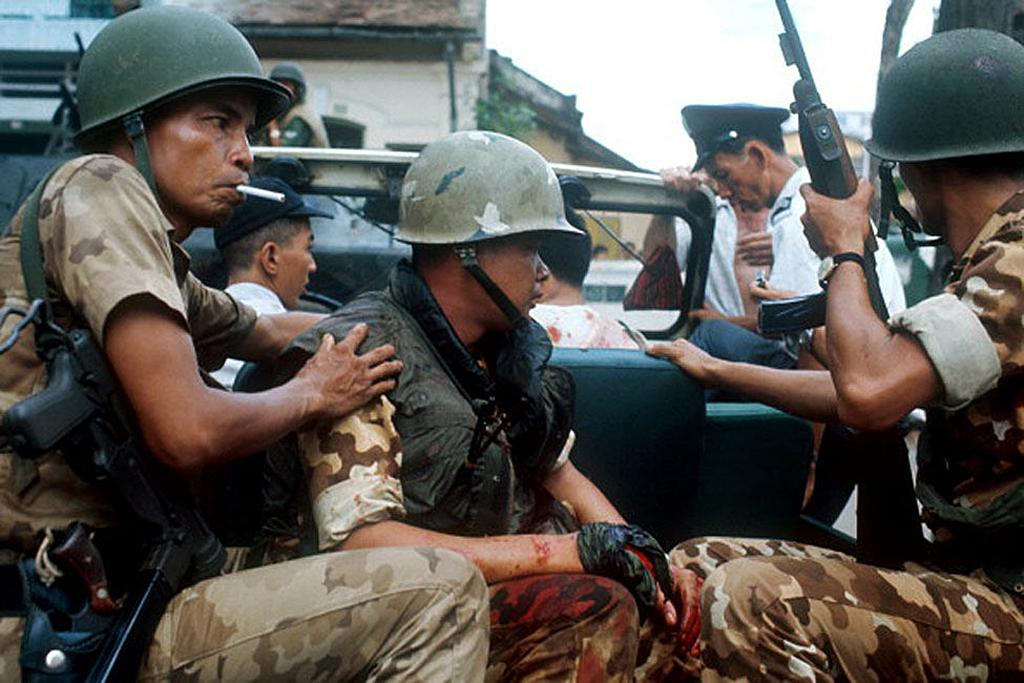Hat: (214, 173, 334, 250), (678, 102, 792, 174)
